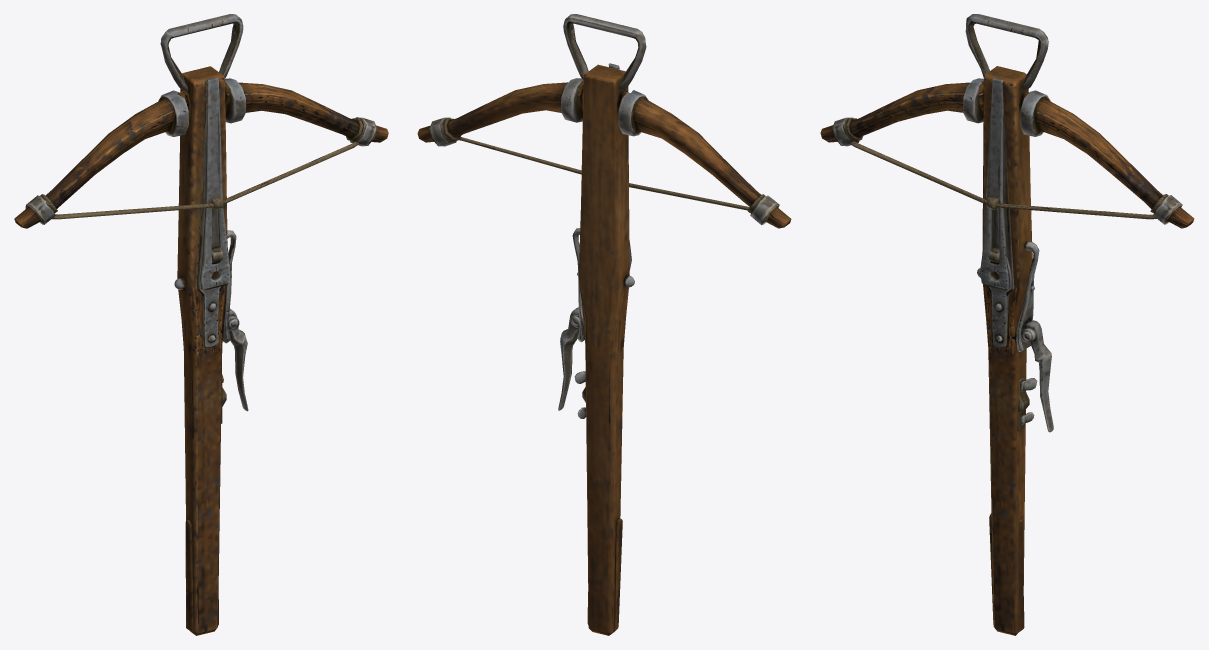
File: Meshy_AI_model.glb
3 views of the same model, side by side, from view 1: azimuth 30°, elevation 25°; view 2: azimuth 150°, elevation 25°; view 3: azimuth 330°, elevation 25° (orthographic).
Visible parts, largest first — view 1: geometry_0; view 2: geometry_0; view 3: geometry_0.
Boxes of the visible parts, left/top/right/bottom form: geometry_0: left=14, top=14, right=388, bottom=635; geometry_0: left=417, top=14, right=791, bottom=635; geometry_0: left=820, top=14, right=1194, bottom=635.
Bounding box in the file's own units: 0.605 × 0.9521 × 0.0757.
1 material, 1 textured.
